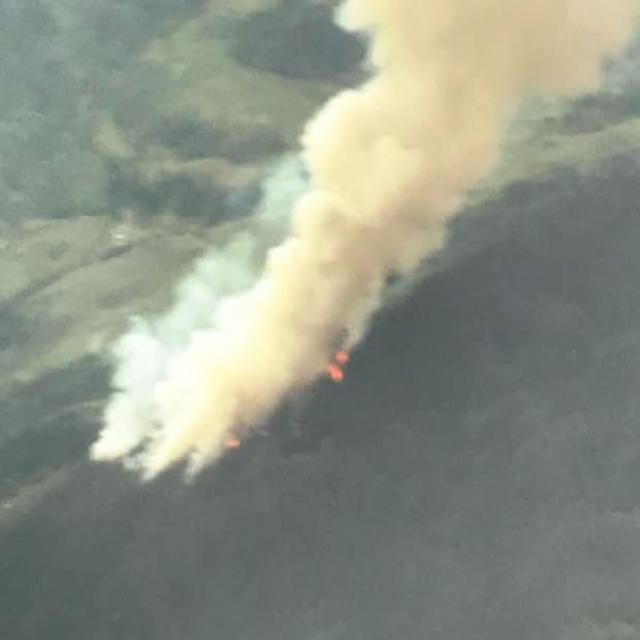Fire: (324, 348, 351, 384)
Smoke: (81, 0, 640, 489)
